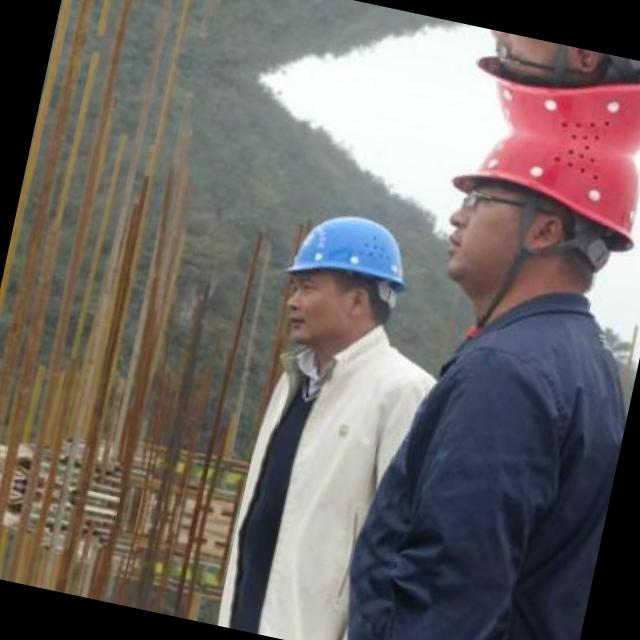helmet: (418, 118, 640, 346), (262, 185, 434, 385), (457, 26, 640, 167)
